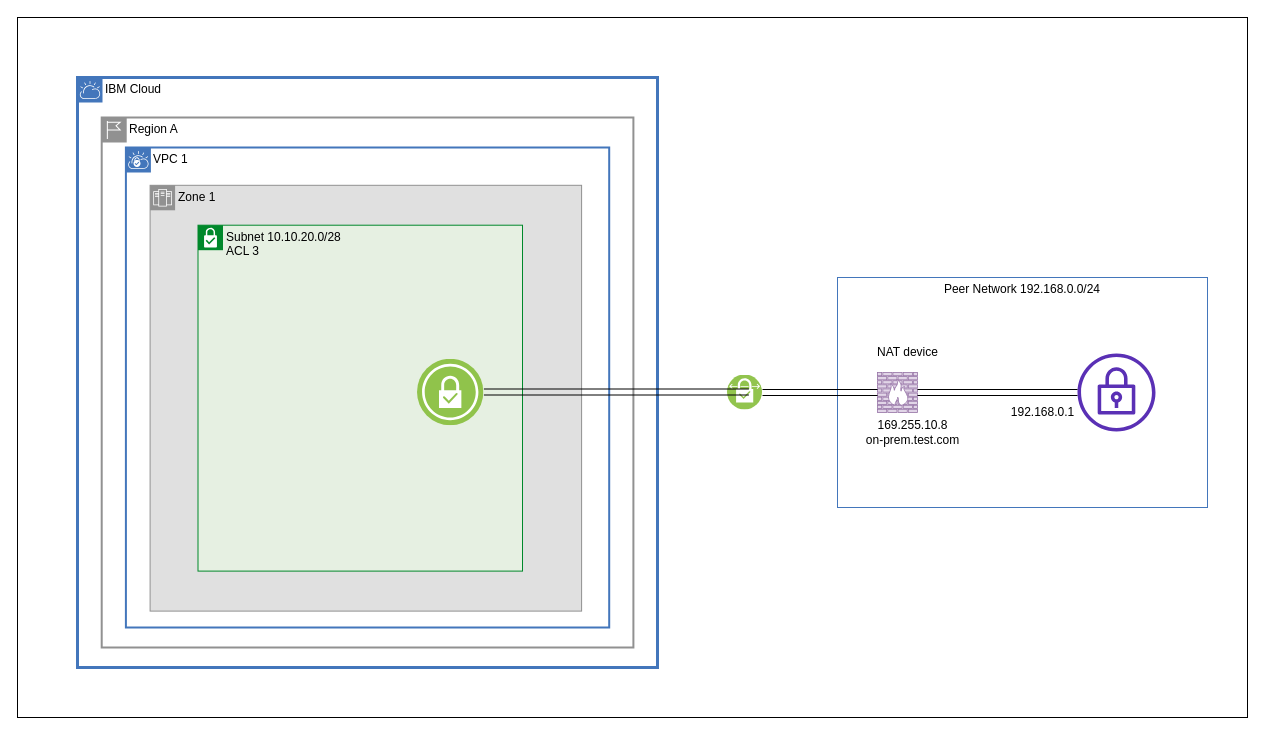
This 1265x735 diagram has some shape labels left out. Here are the shapes that lost their labels. From the top down, the centre of each, then its label:
At point 450,392: "VPN Gateway".
At point 1116,392: "Peer VPN".
